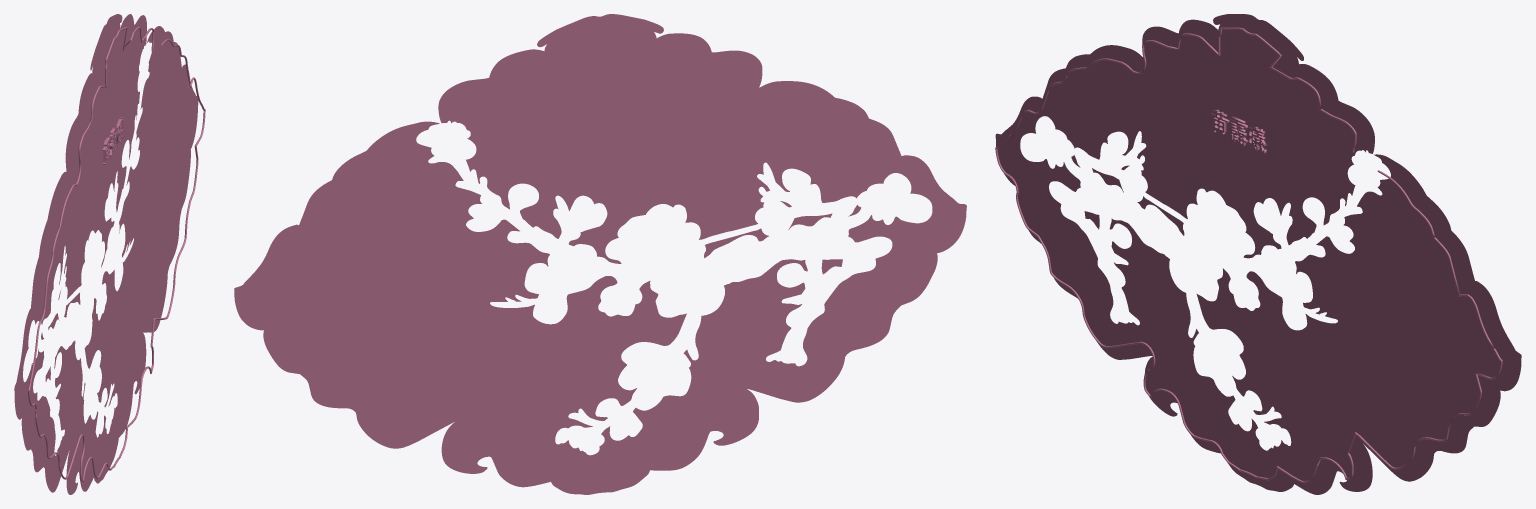
The model's file is purple3_engraved1_metalflwr.glb.
3 renders of one model, left to right at view 1: azimuth 30°, elevation 25°; view 2: azimuth 150°, elevation 25°; view 3: azimuth 270°, elevation 25°, orthographic. The views are drawn at different scales.
Parts seen in each view (by area): view 1: MA_Artboard 2.svg, Curve, WORDS; view 2: MA_Artboard 2.svg; view 3: MA_Artboard 2.svg, Curve, WORDS.
Boxes of the visible parts, left/top/right/bottom form: MA_Artboard 2.svg: left=14, top=14, right=198, bottom=494; Curve: left=28, top=26, right=205, bottom=481; WORDS: left=102, top=116, right=123, bottom=164; MA_Artboard 2.svg: left=234, top=14, right=966, bottom=494; MA_Artboard 2.svg: left=995, top=14, right=1521, bottom=494; Curve: left=995, top=27, right=1502, bottom=483; WORDS: left=1210, top=109, right=1266, bottom=154.
Size of the model in its own units: 1.32 by 1.3 by 1.33.
